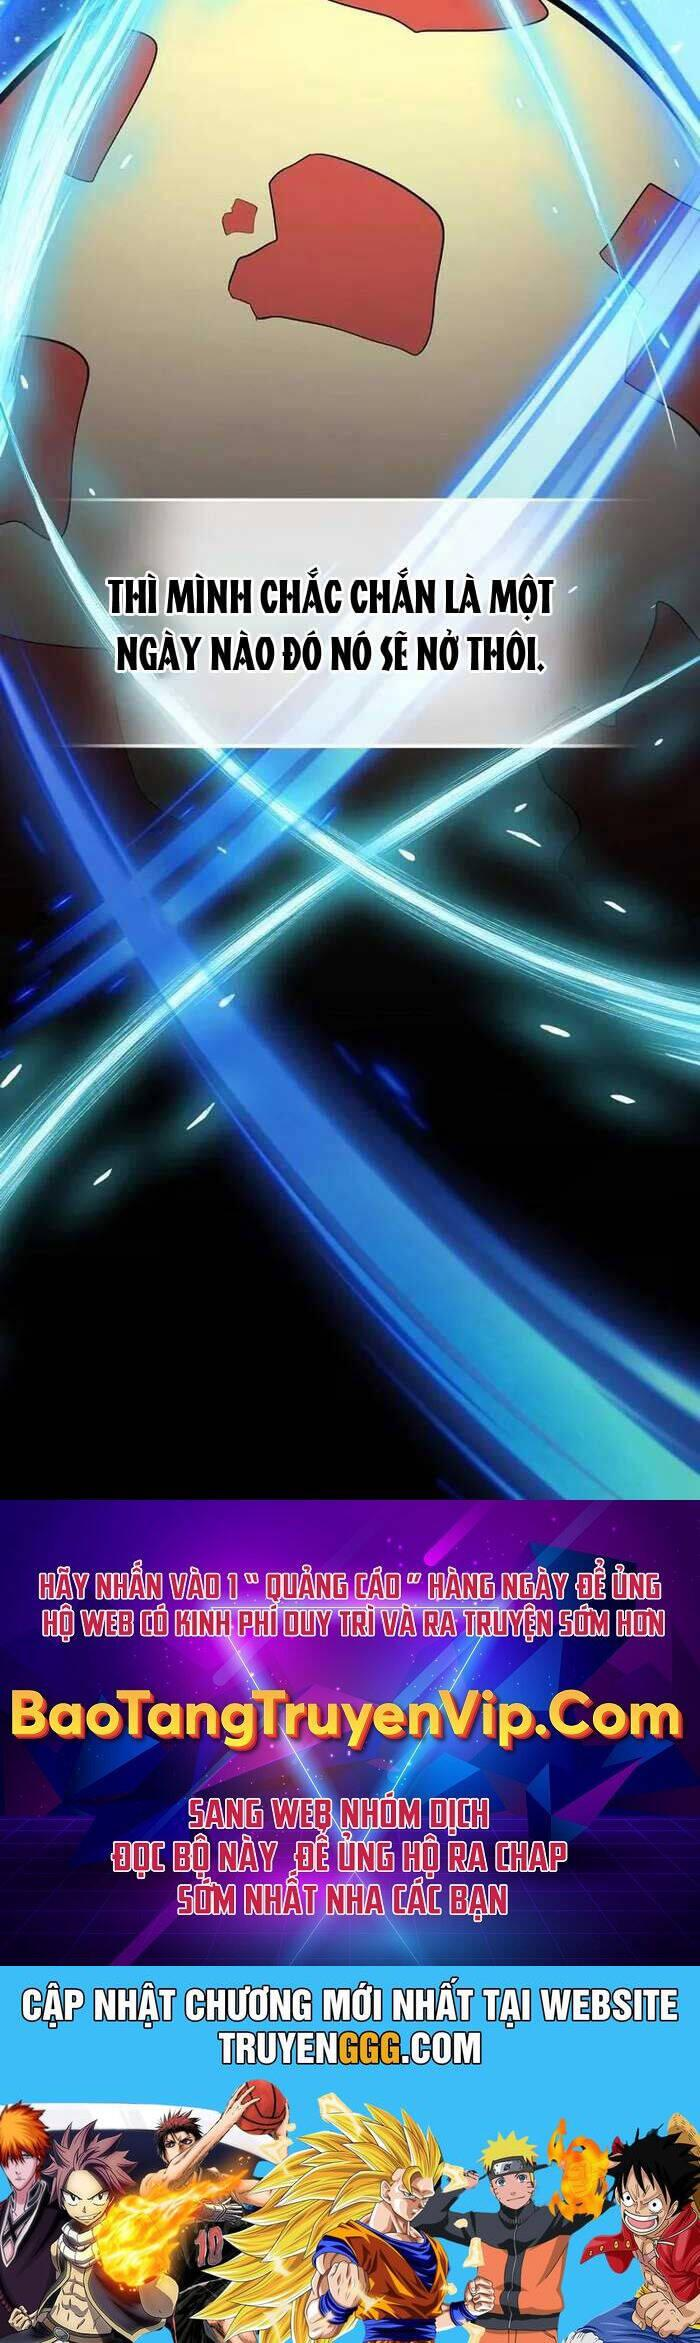quangcao: (0, 1497, 700, 2343)
